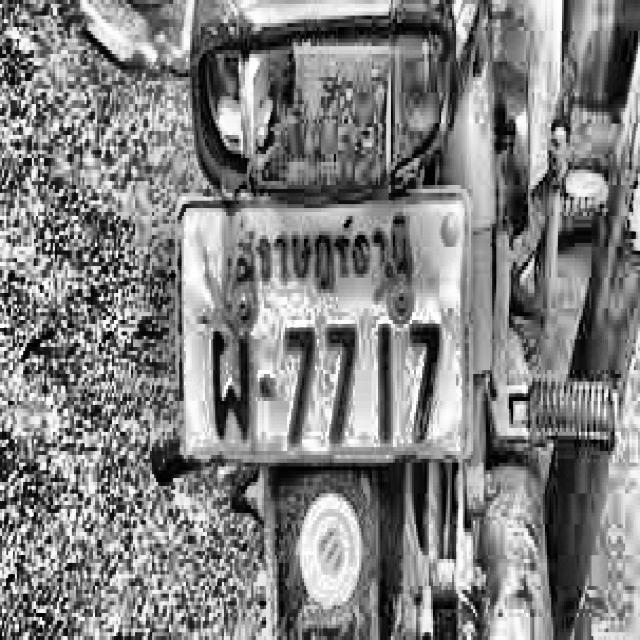license-plate: (161, 174, 504, 502)
